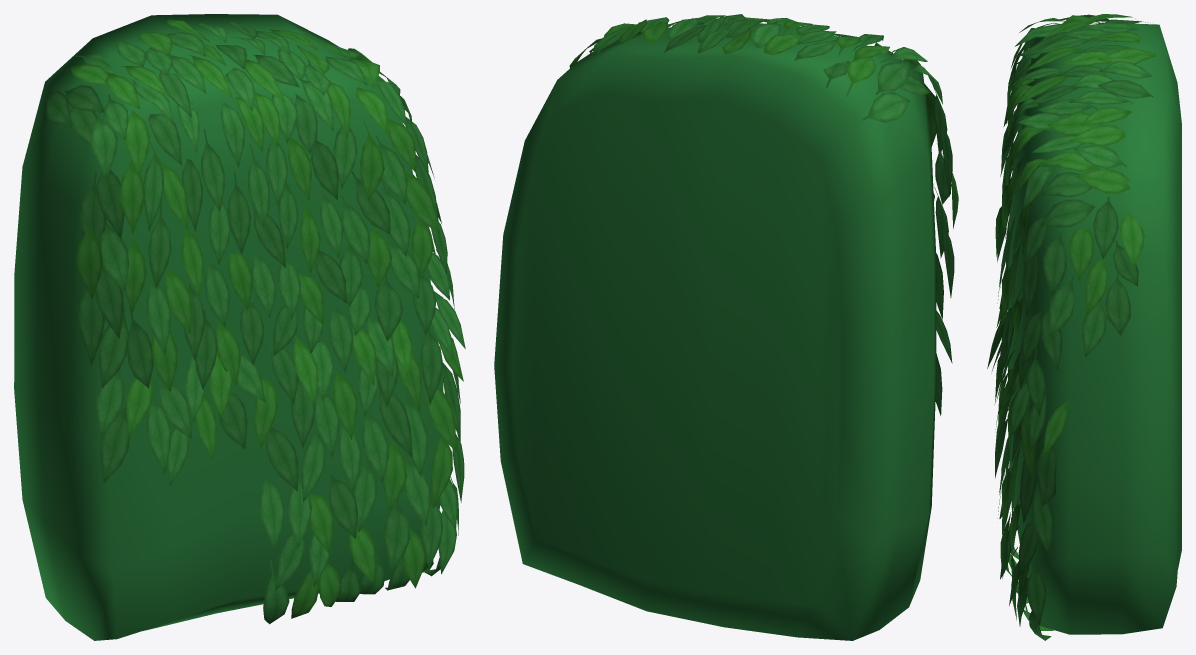
Rendered from ArbustoAltoDireito.fbx.
3 views of the same model, side by side, from view 1: azimuth 30°, elevation 25°; view 2: azimuth 150°, elevation 25°; view 3: azimuth 270°, elevation 25° (orthographic). The views are drawn at different scales.
Parts seen in each view (by area): view 1: ArbustoAltoDireito; view 2: ArbustoAltoDireito; view 3: ArbustoAltoDireito.
Boxes of the visible parts, x1,y1,x2,y2 form: ArbustoAltoDireito: [14, 14, 465, 640]; ArbustoAltoDireito: [494, 14, 958, 640]; ArbustoAltoDireito: [987, 14, 1181, 640].
Bounding box in the file's own units: 1584 × 2171 × 761.
